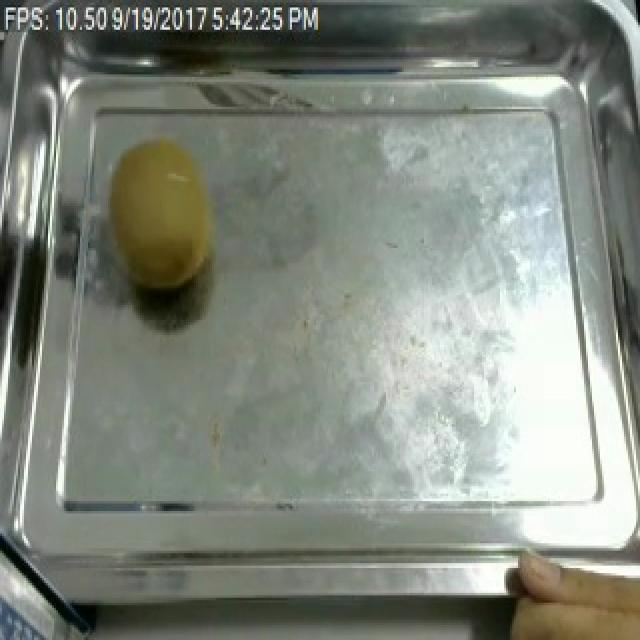Fruit: (92, 129, 230, 305), (494, 541, 640, 640)
